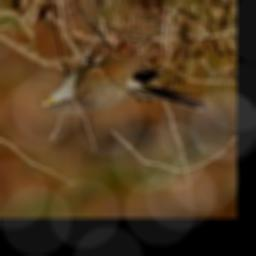Cuckoo: (35, 55, 207, 114)
